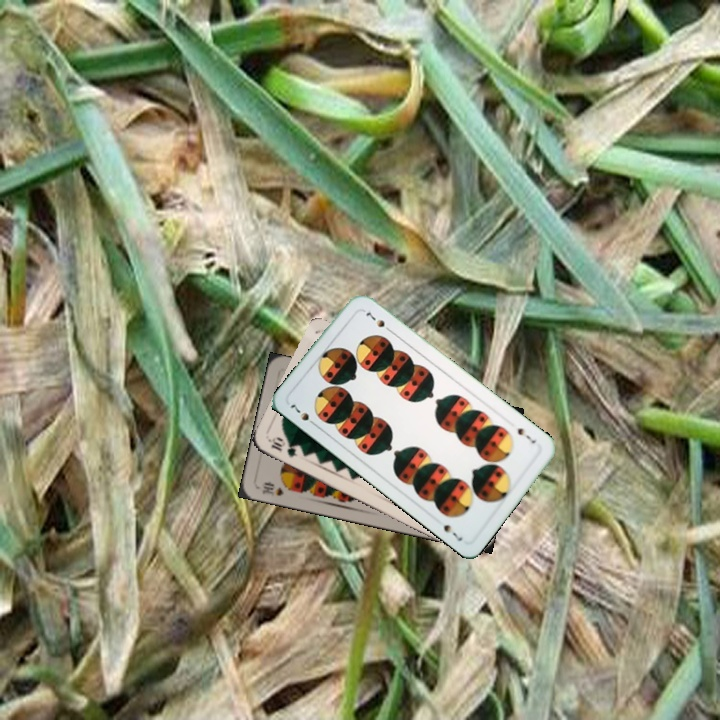G10: (265, 433, 301, 460)
S10: (258, 478, 287, 499)
S7: (286, 397, 319, 429), (513, 423, 539, 446)
